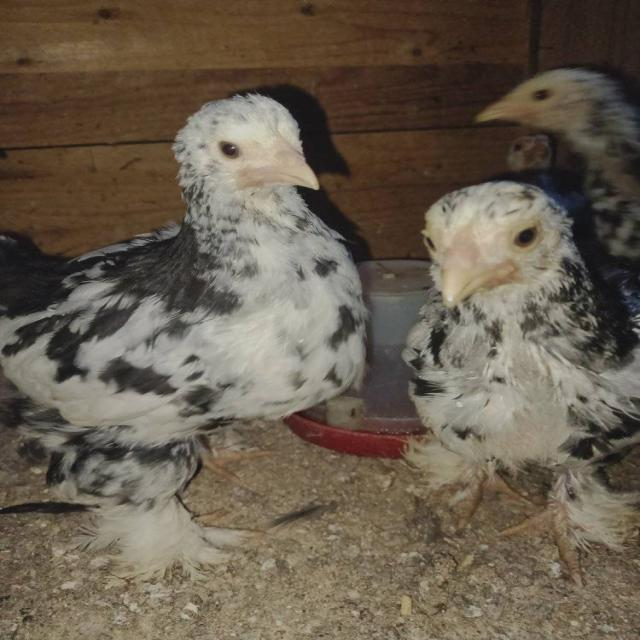Healthy: (11, 83, 374, 558), (396, 167, 640, 581)
